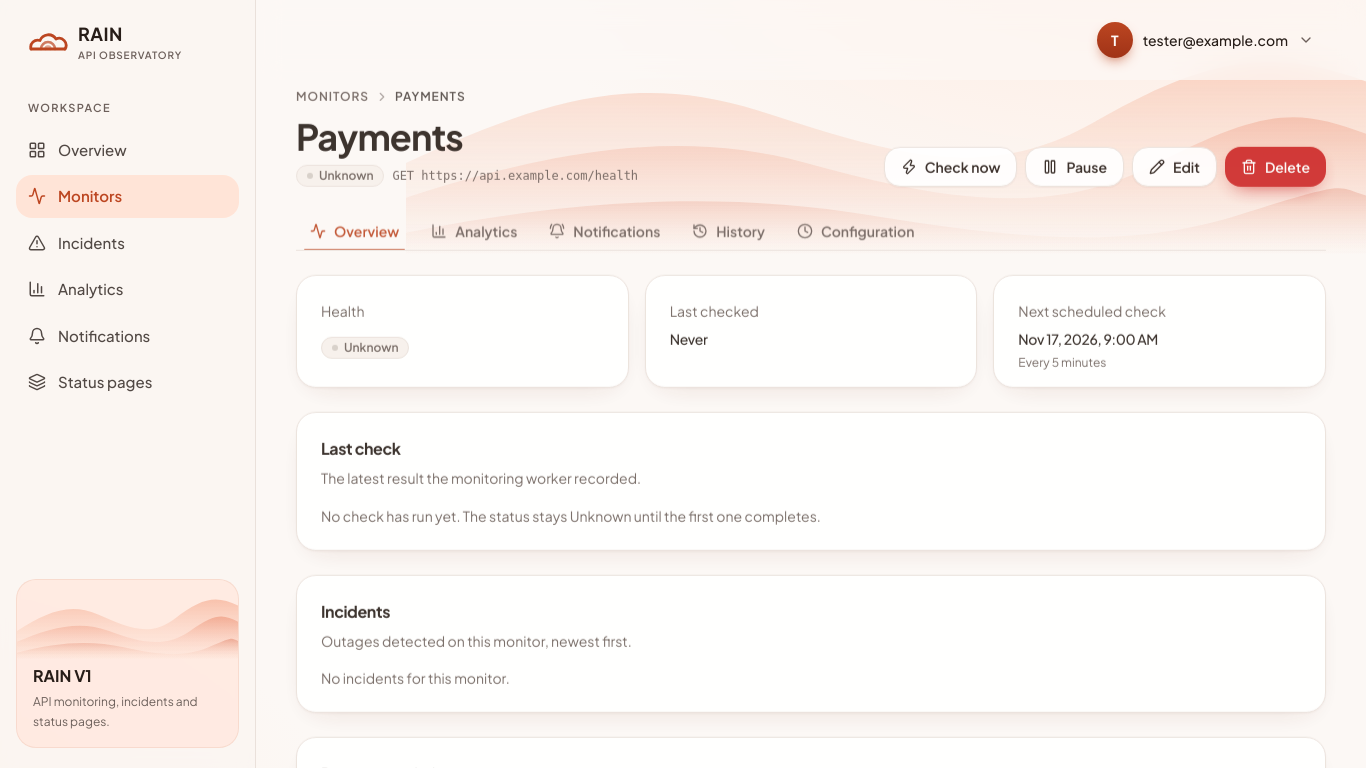
Test: monitor notification settings › shows an error with retry when settings fail to load
The width and height of the screenshot is (1366, 768).
Click the tab "Notifications" at (605, 230), box x1=535 y1=210 x2=674 y2=250
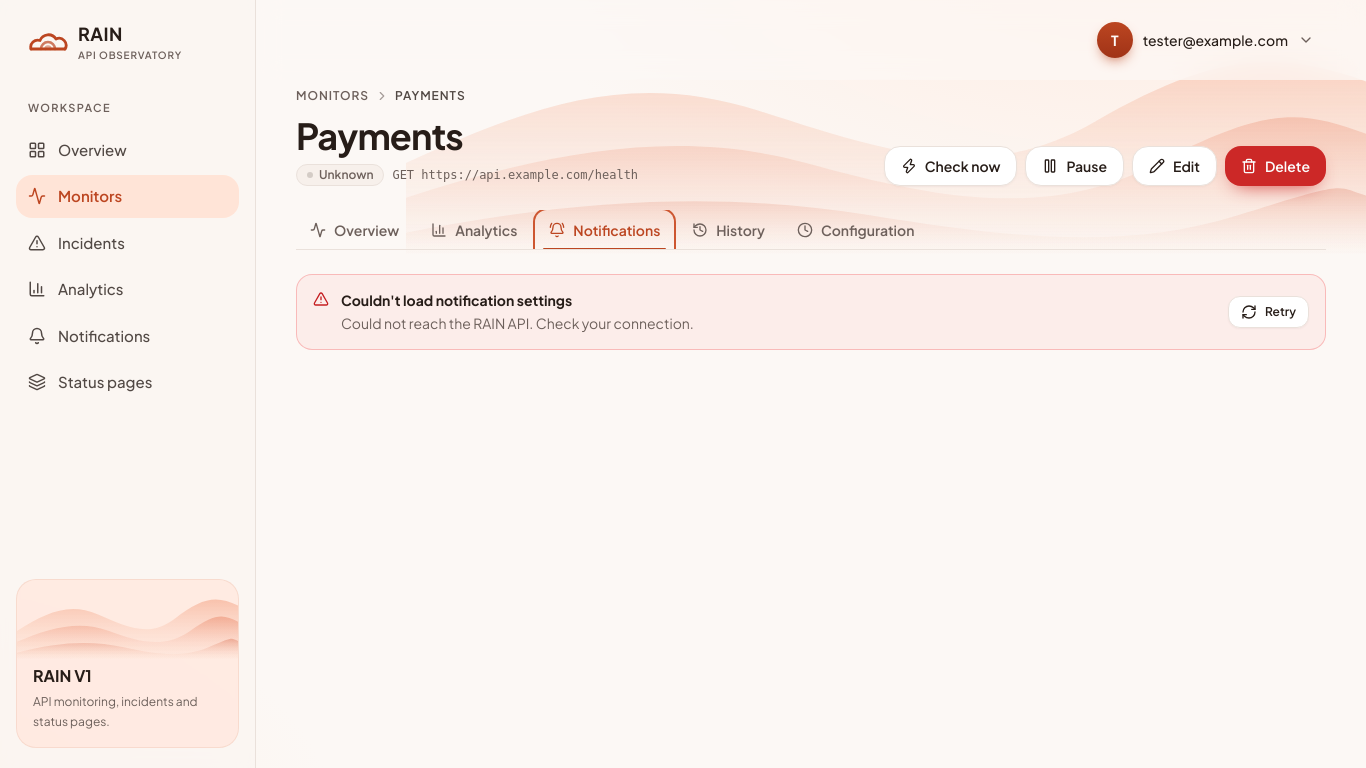
Expected: the text "Couldn't load notification settings" is shown, x1=341 y1=291 x2=572 y2=309
Click the button "Retry" at (1269, 312), box x1=1228 y1=296 x2=1309 y2=328
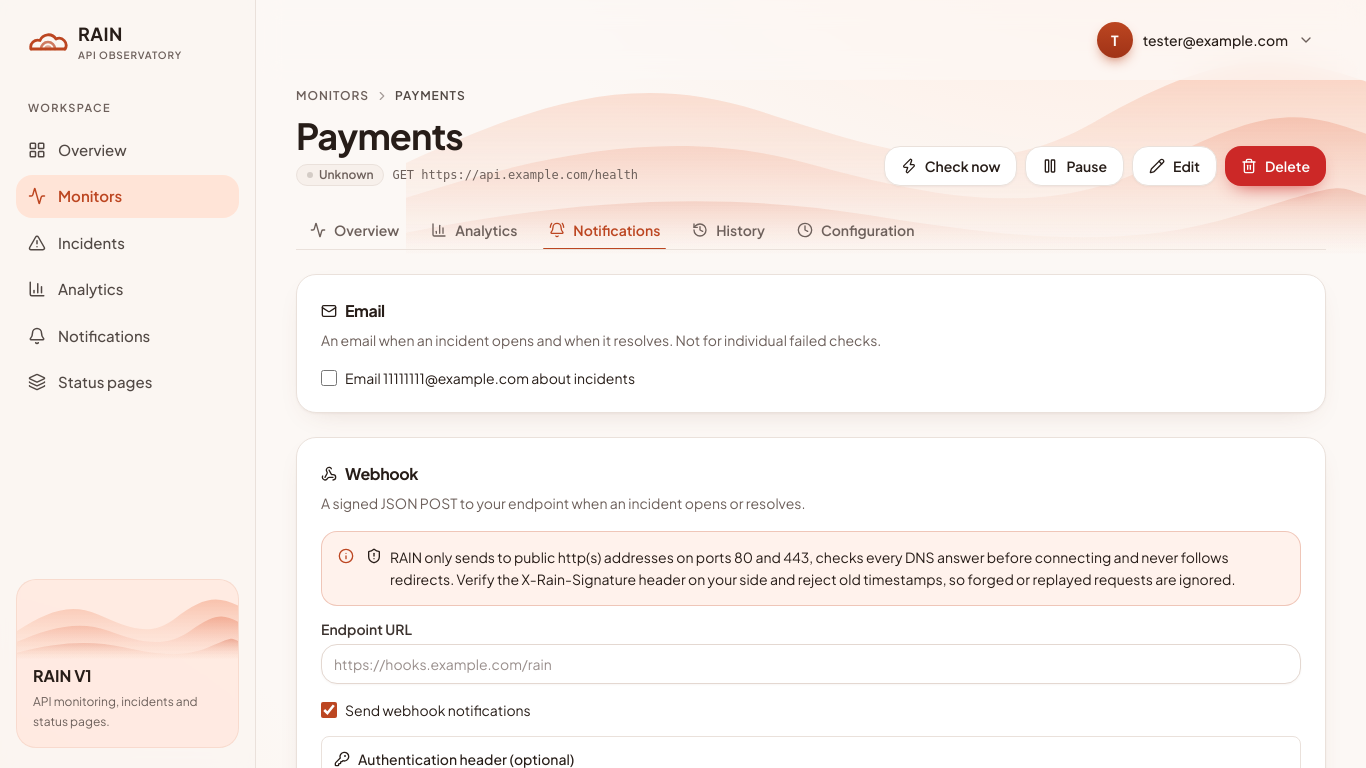
Expected: the field labelled "Endpoint URL" is shown, x1=321 y1=644 x2=1301 y2=684
